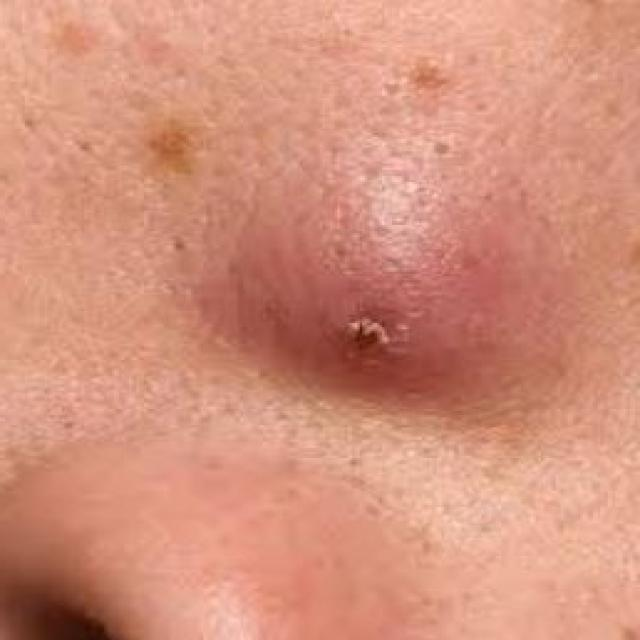nodule: (213, 104, 588, 403)
